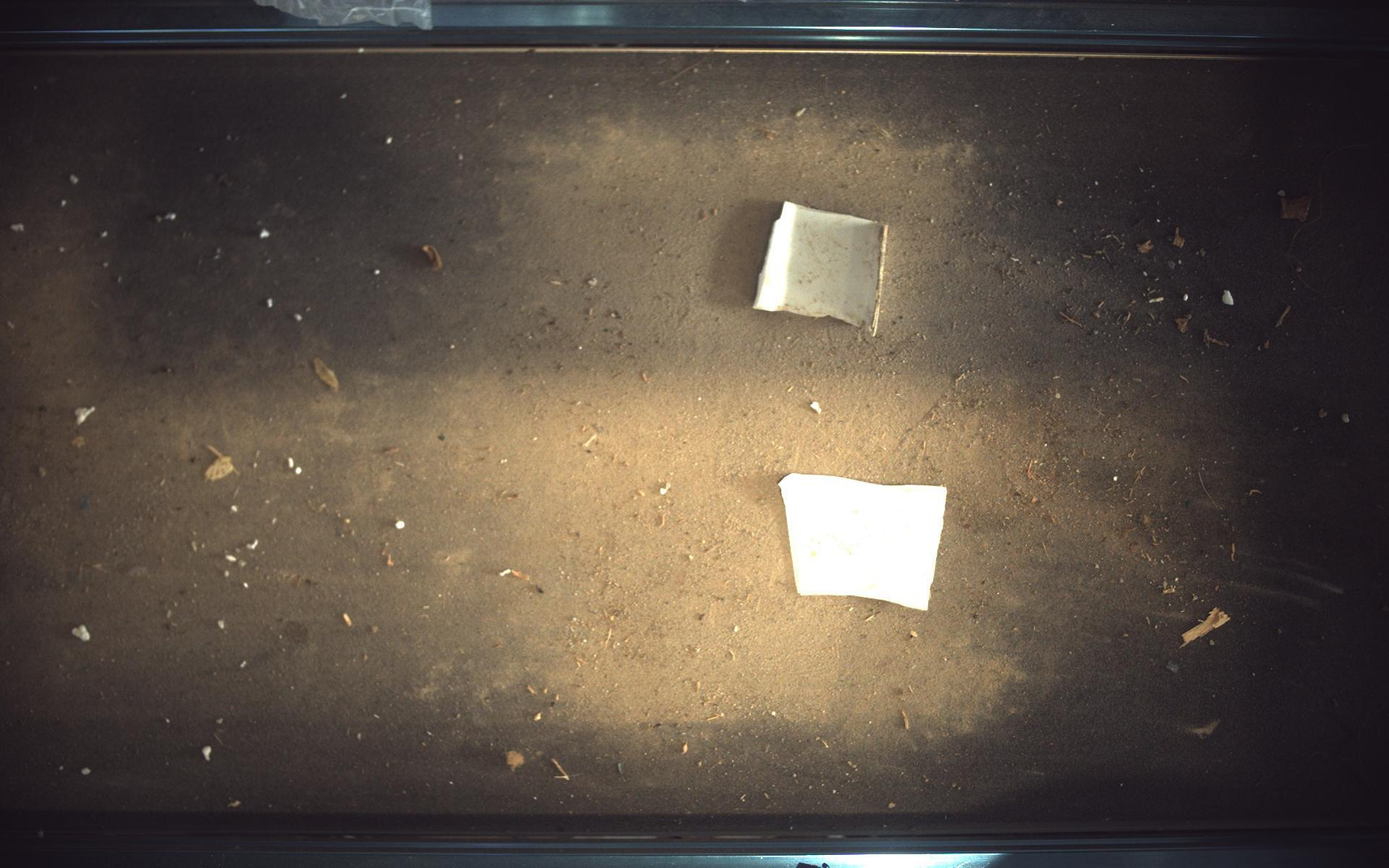plastic: (780, 474, 949, 611), (755, 201, 889, 334)
